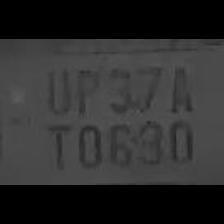0: (71, 119, 103, 170), (166, 114, 195, 166)
3: (135, 116, 163, 168)
6: (104, 119, 134, 170)
A: (165, 60, 193, 116)
P: (72, 60, 100, 116)
T: (41, 119, 72, 170)
U: (40, 60, 70, 118)
